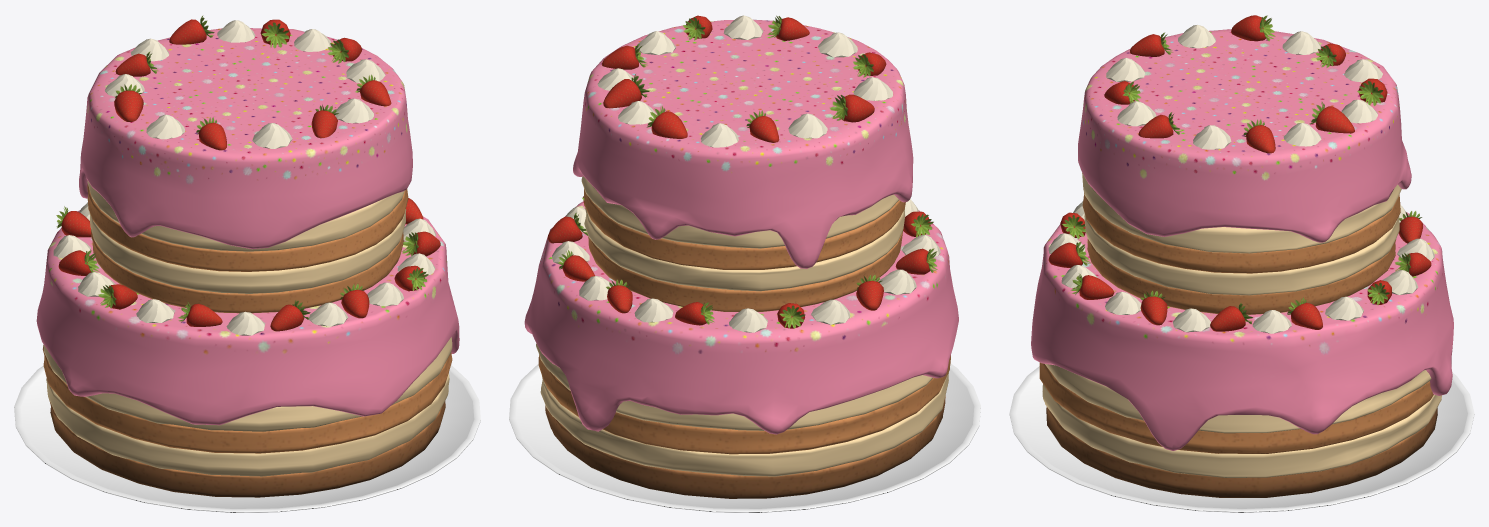
The picture shows the model from 3 angles, left to right: view 1: azimuth 30°, elevation 25°; view 2: azimuth 150°, elevation 25°; view 3: azimuth 270°, elevation 25°; orthographic projection.
Visible parts, largest first — view 1: Cake_, Plate; view 2: Cake_, Plate; view 3: Cake_, Plate.
Part boxes in pixels (x1,y1,x2,y2): Cake_: (36,15,459,497); Plate: (14,365,480,512); Cake_: (524,15,958,498); Plate: (509,363,980,512); Cake_: (1031,15,1453,497); Plate: (1009,366,1474,512).
Bounding box in the file's own units: 23.38 × 20.29 × 23.38.
3 materials, 2 textured.
